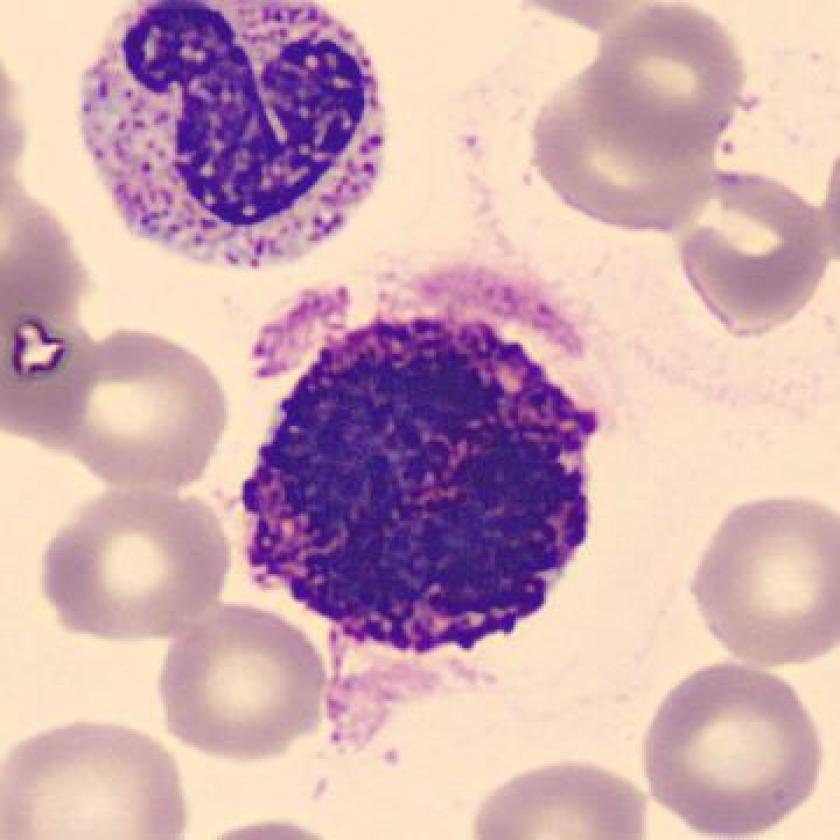basophil: (237, 295, 610, 667), (69, 1, 391, 267)
